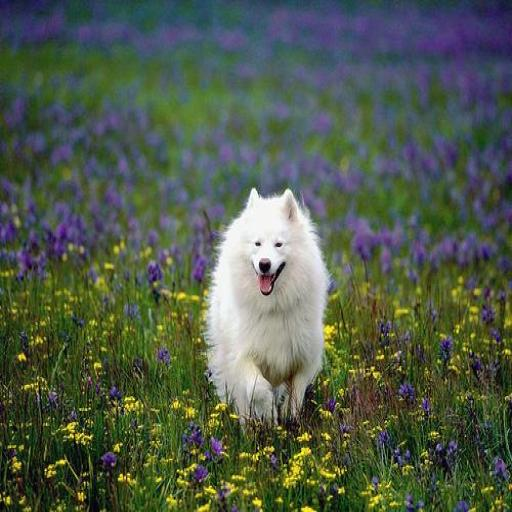dog_face: (240, 186, 297, 297)
